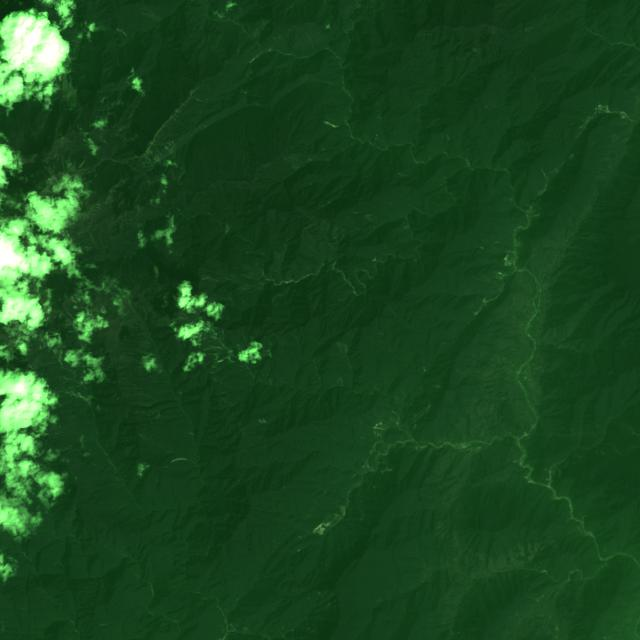landslides: (62, 58, 79, 112), (29, 360, 58, 370), (211, 353, 231, 366), (65, 390, 86, 402), (249, 52, 265, 66), (49, 174, 63, 190), (389, 201, 402, 218), (171, 456, 193, 464), (64, 453, 89, 460), (193, 336, 210, 345), (204, 345, 225, 352), (483, 135, 495, 147), (291, 155, 304, 166), (202, 277, 225, 283), (541, 168, 549, 185), (121, 316, 136, 325), (38, 174, 46, 190), (66, 173, 75, 187), (9, 348, 24, 356), (37, 352, 53, 359), (350, 94, 363, 102), (177, 172, 185, 185), (80, 157, 90, 167)
